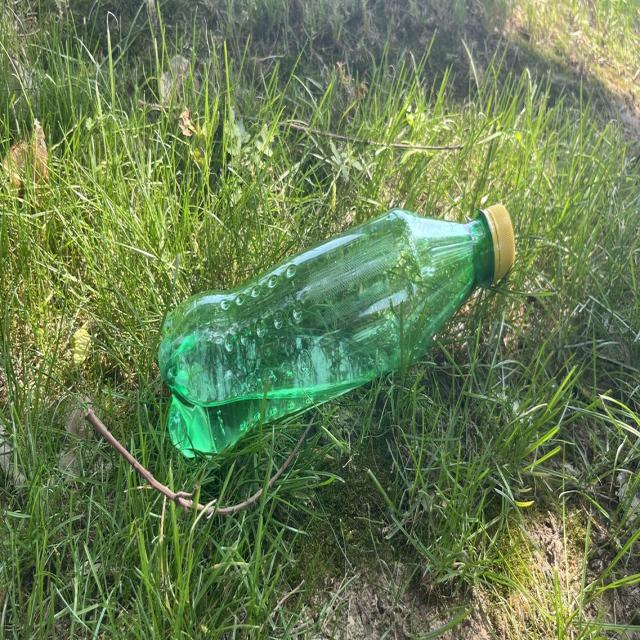low: (159, 205, 514, 457)
